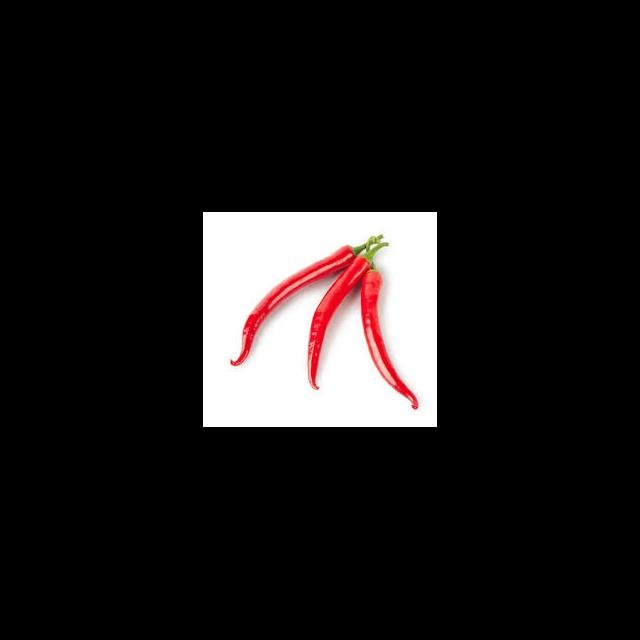chili_pepper: (234, 245, 357, 372), (360, 266, 420, 409)
